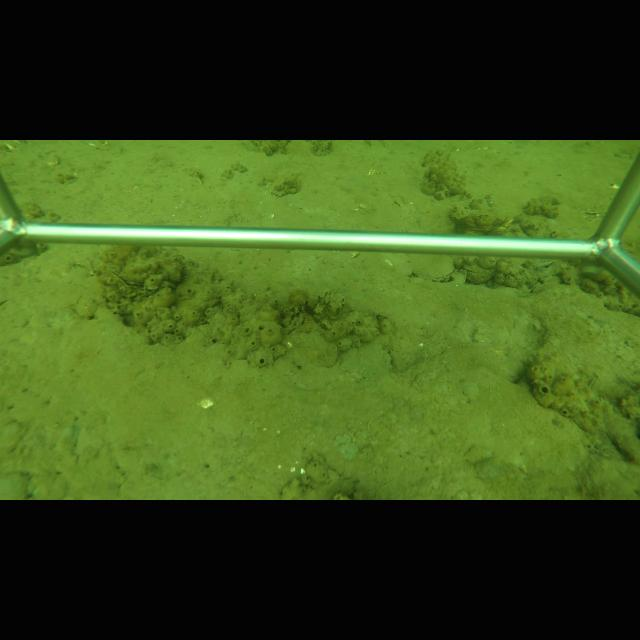Oyster-Closed: (101, 267, 150, 291), (460, 262, 496, 286), (424, 260, 456, 286)
